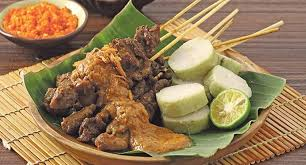sate: (30, 20, 269, 159)
